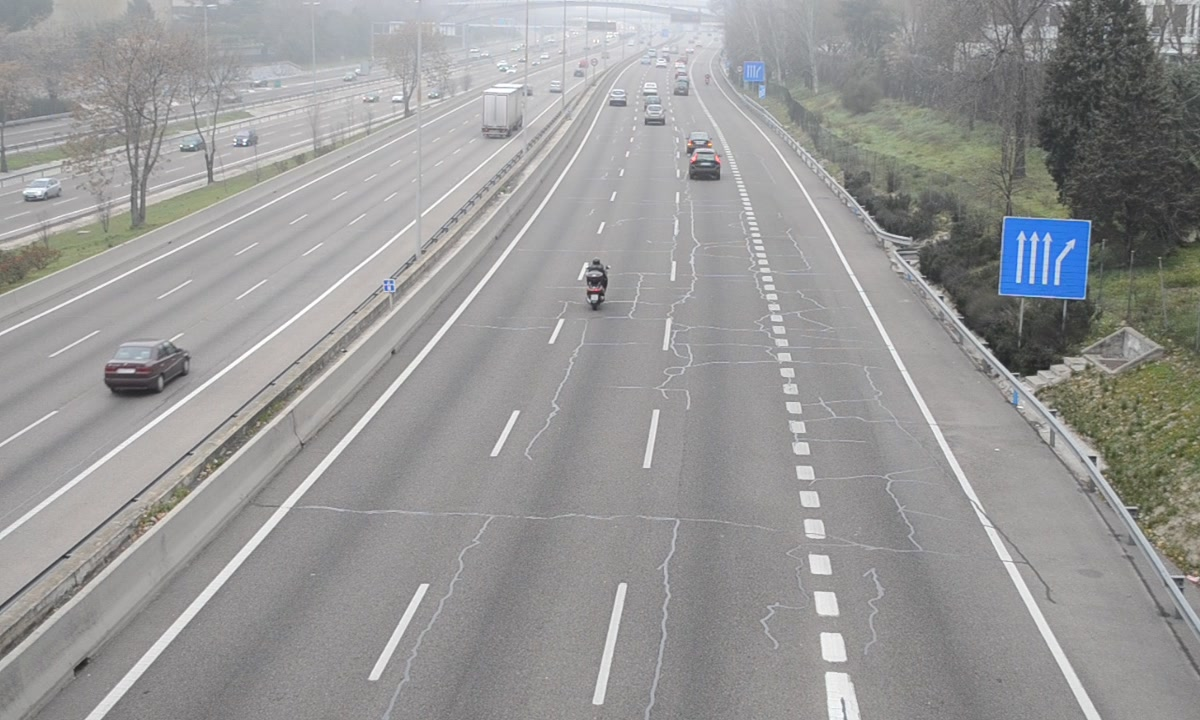car: (689, 148, 722, 180)
motorcycle: (583, 257, 608, 312)
